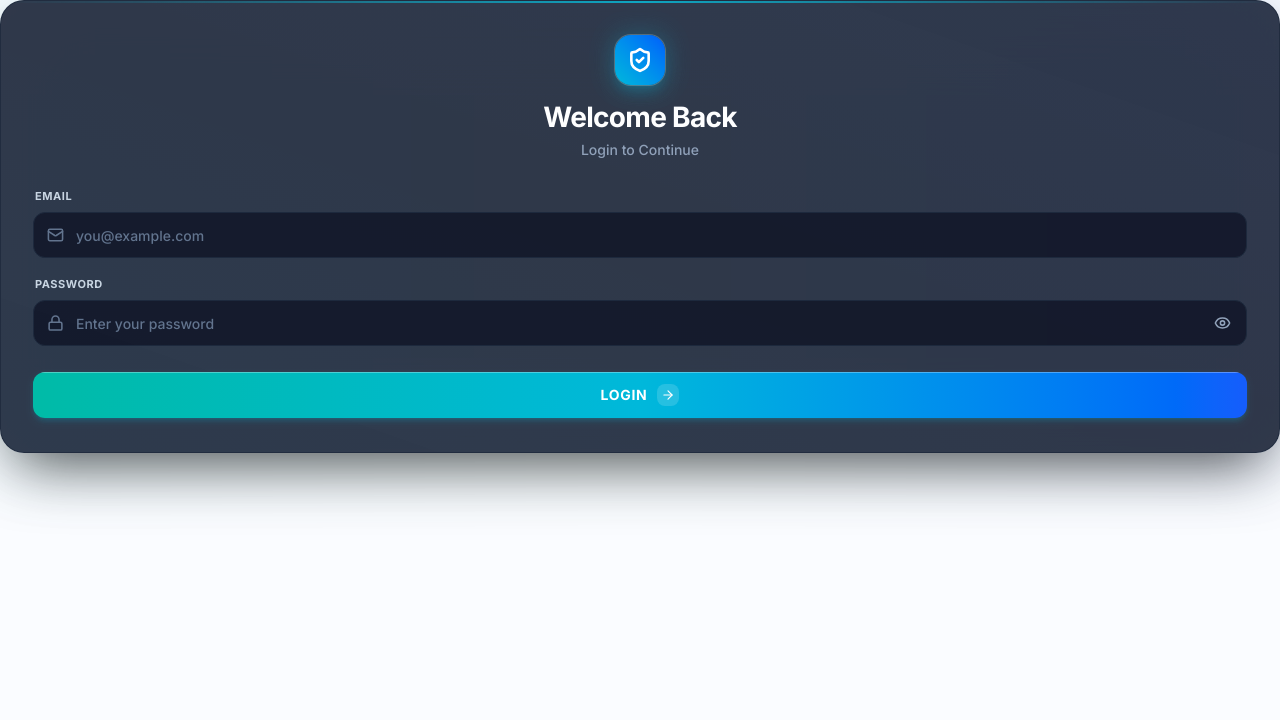
Scenario: LoginForm Error Handling › handles login errors properly
Type "test@example.com" into the field with placeholder "you@example.com" at (640, 235), box top-left (33, 212), bottom-right (1247, 258)
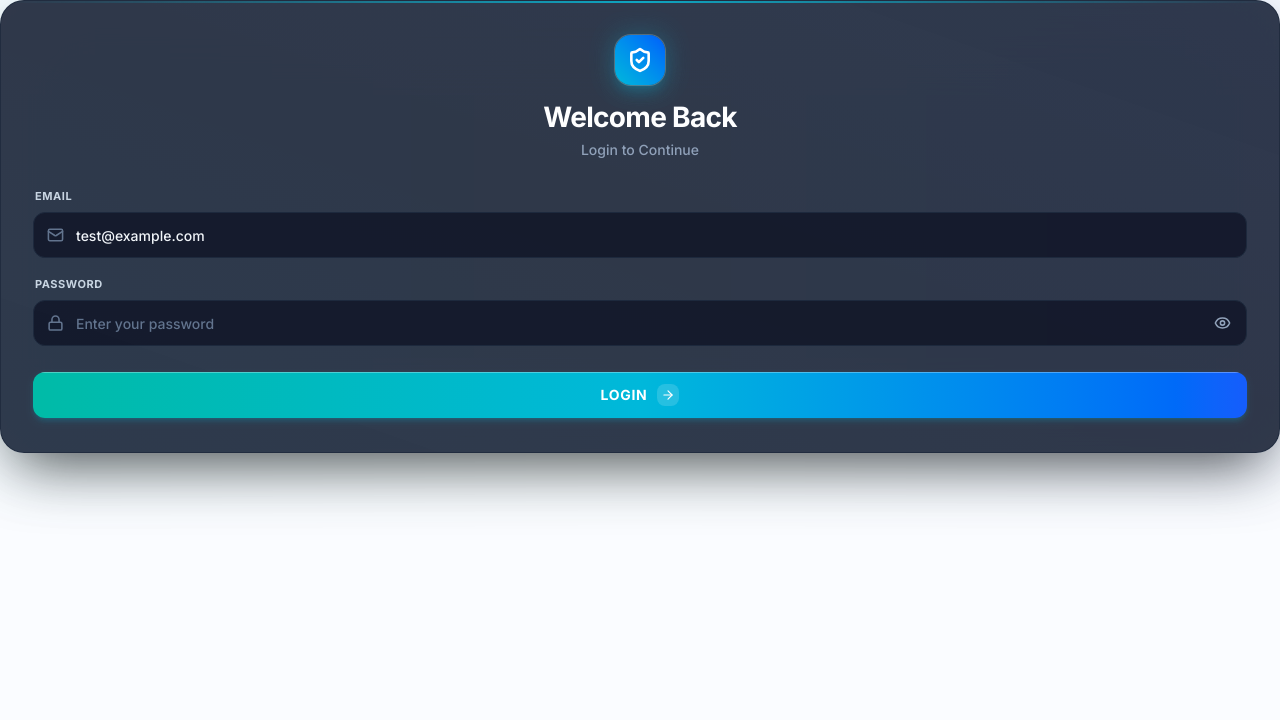
Type "wrongpassword" into the password field with placeholder "Enter your password" at (640, 323), box top-left (33, 300), bottom-right (1247, 346)
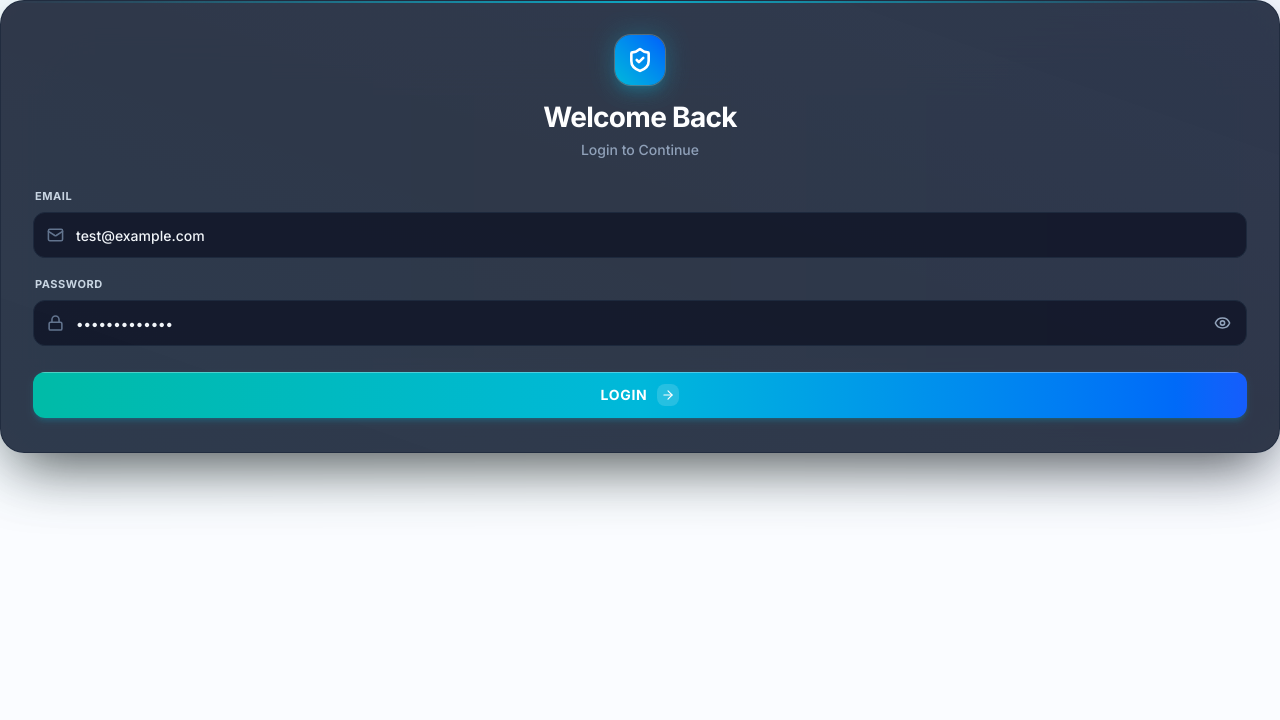
Click the button "Login" at (640, 395), box top-left (33, 372), bottom-right (1247, 418)
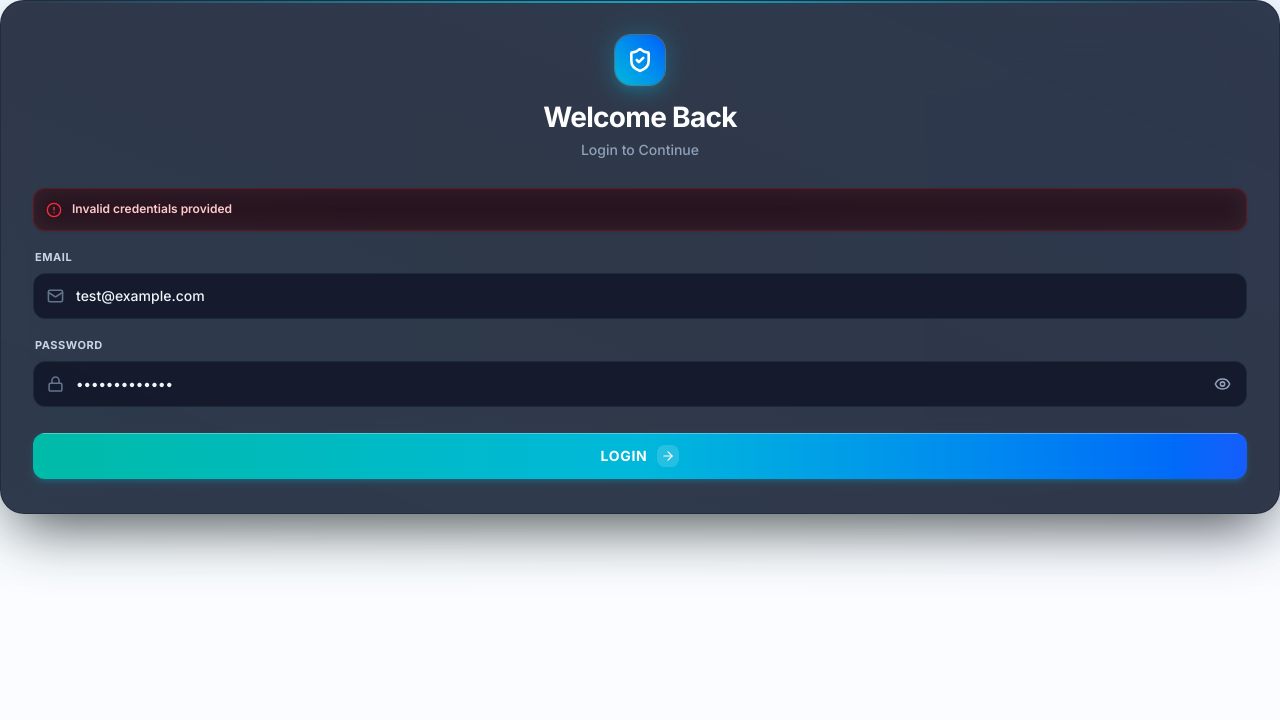
Check: the text "Invalid credentials provided" is shown, box top-left (72, 201), bottom-right (232, 218)
